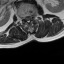CCS_normal: (27, 13, 29, 25)
LFS_stenosis: (31, 12, 34, 19)
LLS_severe_stenosis: (29, 13, 31, 22)
RFS_stenosis: (23, 14, 25, 22)
RLS_stenosis: (25, 14, 27, 22)
